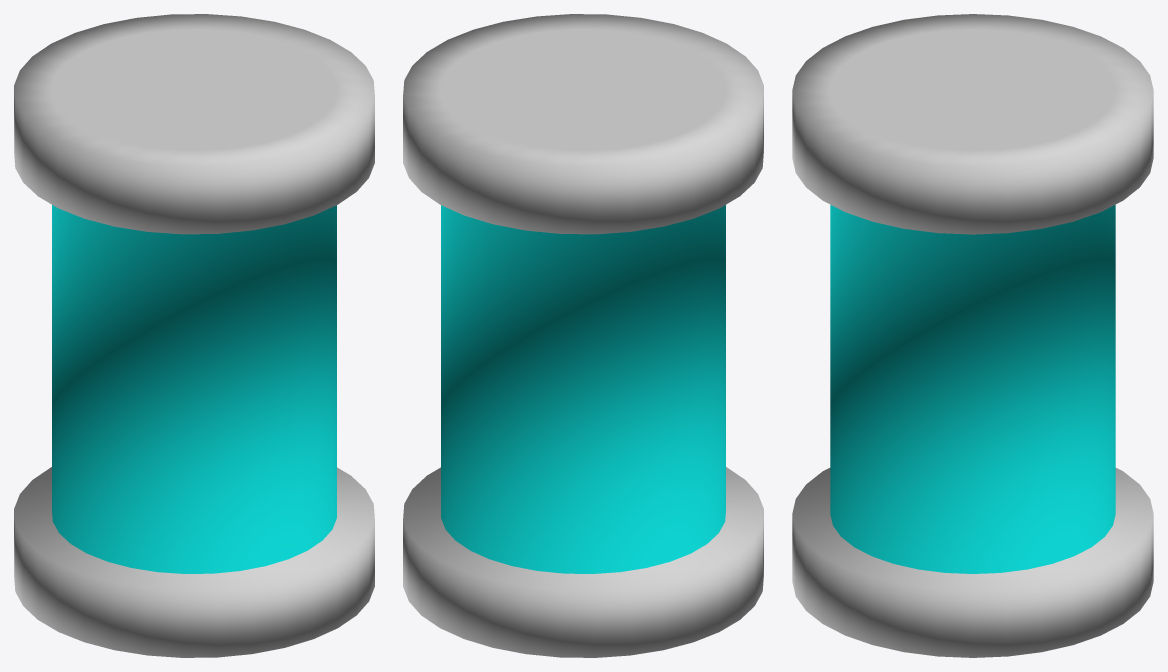
File: Liquid Tube.fbx
The picture shows the model from 3 angles, left to right: view 1: azimuth 30°, elevation 25°; view 2: azimuth 150°, elevation 25°; view 3: azimuth 270°, elevation 25°; orthographic projection.
Visible parts, largest first — view 1: Cylinder; view 2: Cylinder; view 3: Cylinder.
Part boxes in pixels (x1,y1,x2,y2): Cylinder: (14, 14, 374, 657); Cylinder: (403, 14, 763, 657); Cylinder: (792, 14, 1153, 657).
Bounding box in the file's own units: 200 × 300 × 200.
